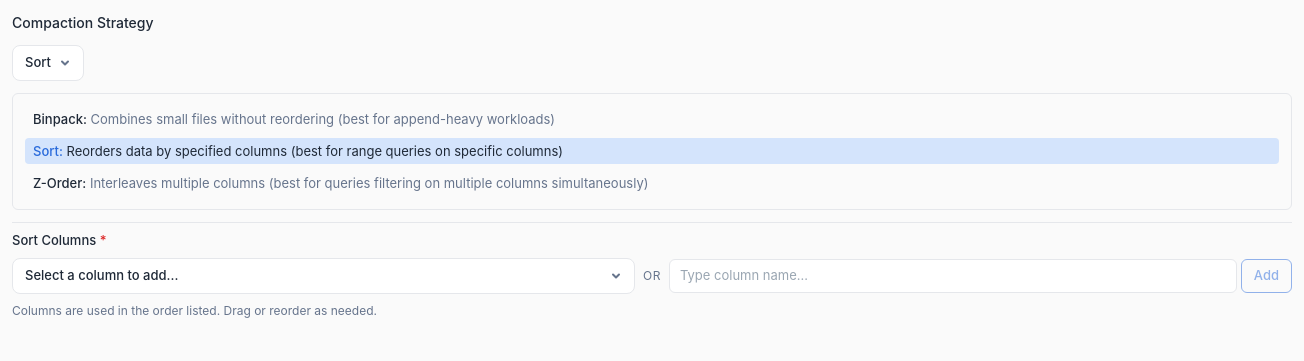
Scenario: CompactionStrategySelector › shows error when adding a column not in schema
This screenshot has width=1304, height=361.
Type "nonexistent_col" into the field named "Sort column name" at (953, 276), box x1=669 y1=259 x2=1237 y2=293
Then press Enter
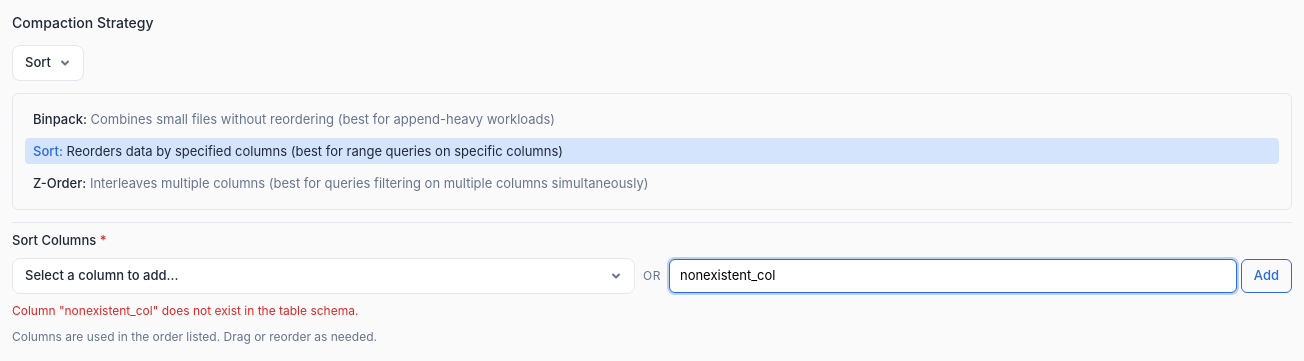
Expected: the text "Column \"nonexistent_col\" does not exist in the table schema." is shown, x1=12 y1=303 x2=358 y2=318
